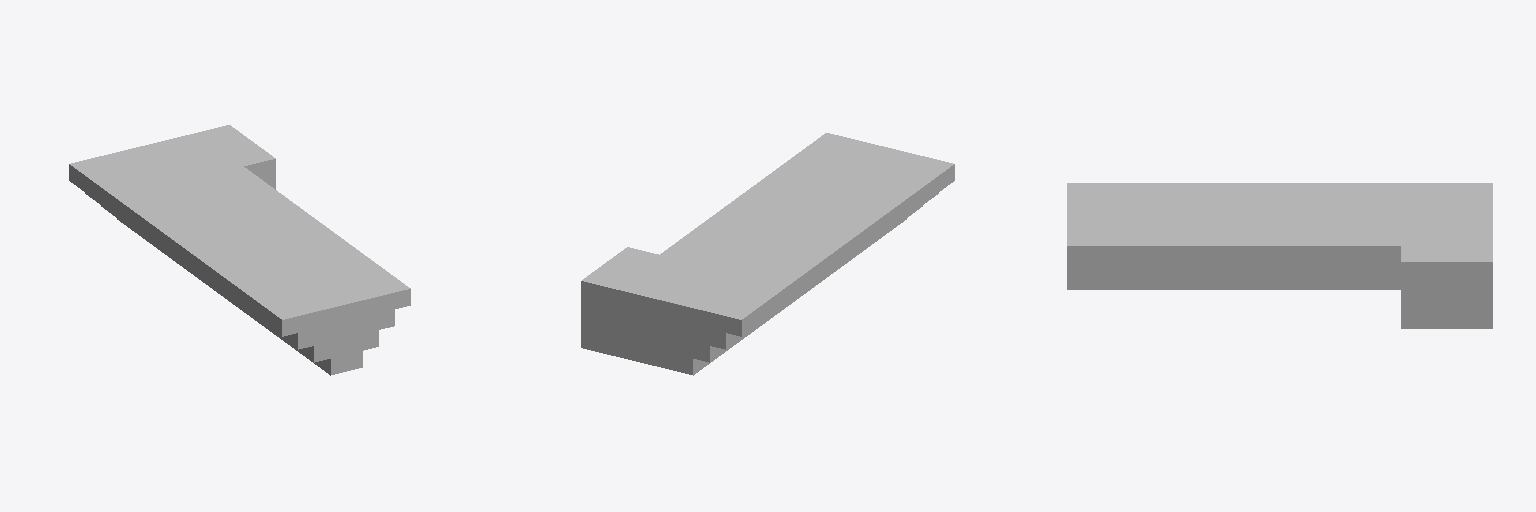
Rendered from Gun2.obj.
The picture shows the model from 3 angles: view 1: azimuth 30°, elevation 25°; view 2: azimuth 150°, elevation 25°; view 3: azimuth 270°, elevation 25°; orthographic projection.
Visible parts, largest first — view 1: object 1; view 2: object 1; view 3: object 1.
Part boxes in pixels (x1,y1,x2,y2): object 1: (69,125,410,375); object 1: (581,133,954,375); object 1: (1067,183,1492,328).
Size of the model in its own units: 1 by 0.4 by 2.3.